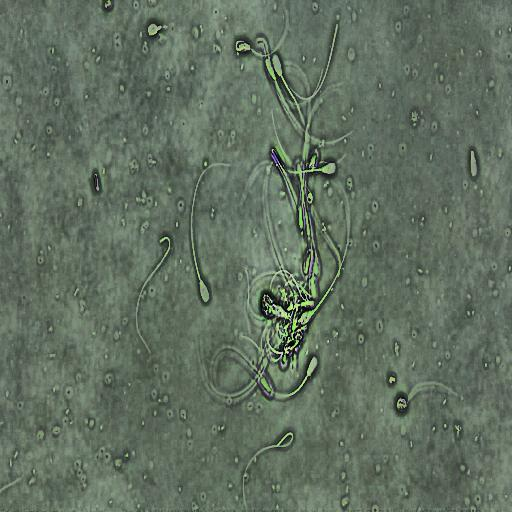coiled-tail: (235, 29, 289, 57)
dirt-particles: (92, 170, 101, 193), (387, 373, 397, 386)
loose-head: (469, 147, 479, 180), (146, 20, 163, 39)
loose-tail: (133, 233, 173, 358), (241, 429, 296, 512), (287, 19, 341, 102)
normal: (261, 55, 357, 149), (189, 158, 238, 309), (301, 182, 351, 325), (236, 155, 341, 208), (270, 50, 311, 167), (254, 352, 320, 401), (230, 15, 290, 62)
